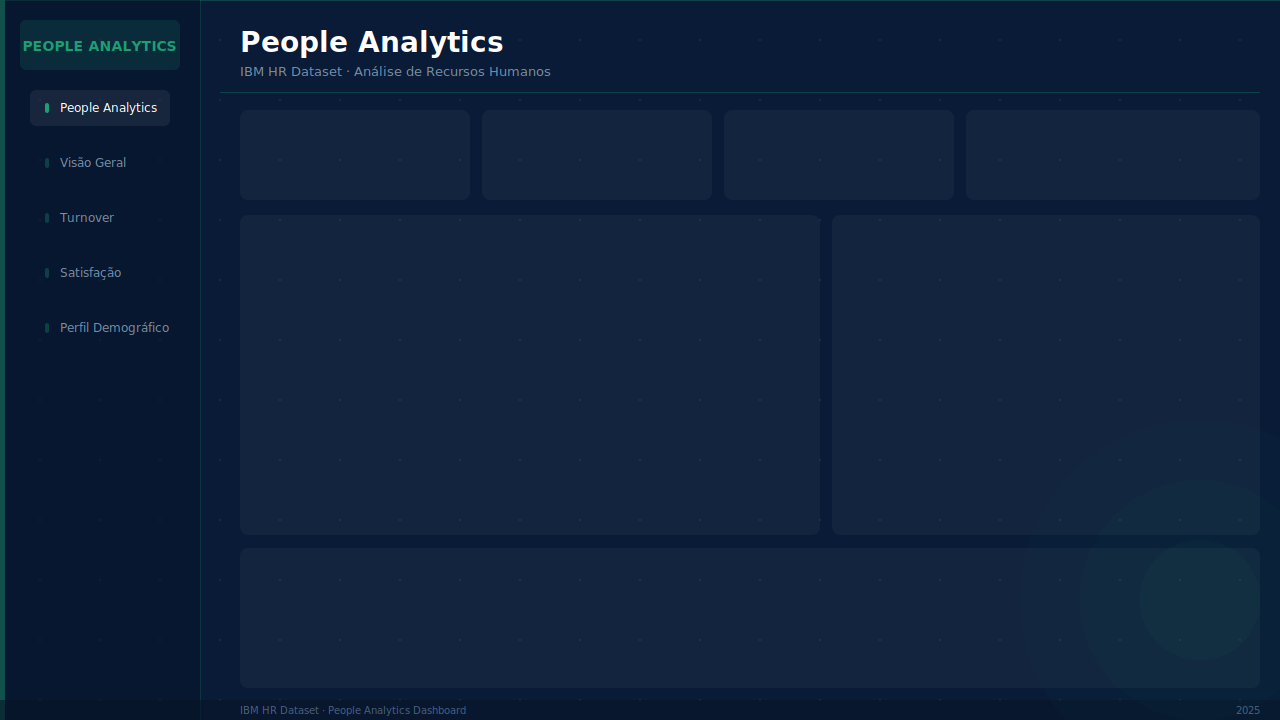

What the dashboard file says about the page in this screenshot:
{"tool":"powerbi","page":{"name":"Capa","canvas":[1280,720],"ordinal":0},"visuals":[{"type":"cardVisual","fields":{"Data":["Medidas.Total de Funcionários"]},"box":[236.4,82.8,231,97.5],"z":0},{"type":"cardVisual","fields":{"Data":["Medidas.Desligados"]},"box":[530.2,76.7,208.2,106.7],"z":1000},{"type":"cardVisual","fields":{"Data":["Medidas.Taxa de Turnover"]},"box":[771.8,81.5,231,92.1],"z":2000},{"type":"cardVisual","fields":{"Data":["Medidas.Salário Médio"]},"box":[1031.5,83.2,245.5,91.3],"z":3000},{"type":"donutChart","fields":{"Y":["Medidas.Desligados","Medidas.Funcionários Ativos"]},"box":[897.4,224.3,383.2,324.5],"z":4000},{"type":"clusteredBarChart","fields":{"Category":["bancotraduzido.Departamento"],"Y":["Medidas.Funcionários Ativos"]},"box":[236.4,224.3,572.9,312.5],"z":5000},{"type":"columnChart","title":"Salários Ativos por Departamento","fields":{"Category":["bancotraduzido.Departamento"],"Y":["Medidas.Salário Médio Ativos"]},"box":[239,586.2,1022.9,133.5],"z":6000},{"type":"actionButton","box":[0,110.8,150.9,41.4],"z":7000},{"type":"actionButton","box":[0,173.6,150.9,40.1],"z":8000},{"type":"actionButton","box":[0,240.4,150.9,44.1],"z":9000},{"type":"actionButton","box":[0,300.5,174.9,46.7],"z":10000},{"type":"actionButton","box":[0,54.7,156.2,41.4],"z":11000}]}

Visuals, with their boxes on the page's 1280x720 design canvas (x1, y1, x2, y2). These are canvas units, not pixel positions in the 1280x720 screenshot, which may show the page scaled, cropped or inside an application window:
cardVisual - Medidas.Total de Funcionários: {"x1": 236, "y1": 83, "x2": 467, "y2": 180}
cardVisual - Medidas.Desligados: {"x1": 530, "y1": 77, "x2": 738, "y2": 183}
cardVisual - Medidas.Taxa de Turnover: {"x1": 772, "y1": 82, "x2": 1003, "y2": 174}
cardVisual - Medidas.Salário Médio: {"x1": 1032, "y1": 83, "x2": 1277, "y2": 174}
donutChart - Medidas.Desligados x Medidas.Funcionários Ativos: {"x1": 897, "y1": 224, "x2": 1281, "y2": 549}
clusteredBarChart - bancotraduzido.Departamento x Medidas.Funcionários Ativos: {"x1": 236, "y1": 224, "x2": 809, "y2": 537}
"Salários Ativos por Departamento" columnChart: {"x1": 239, "y1": 586, "x2": 1262, "y2": 720}
actionButton: {"x1": 0, "y1": 111, "x2": 151, "y2": 152}
actionButton: {"x1": 0, "y1": 174, "x2": 151, "y2": 214}
actionButton: {"x1": 0, "y1": 240, "x2": 151, "y2": 284}
actionButton: {"x1": 0, "y1": 300, "x2": 175, "y2": 347}
actionButton: {"x1": 0, "y1": 55, "x2": 156, "y2": 96}
